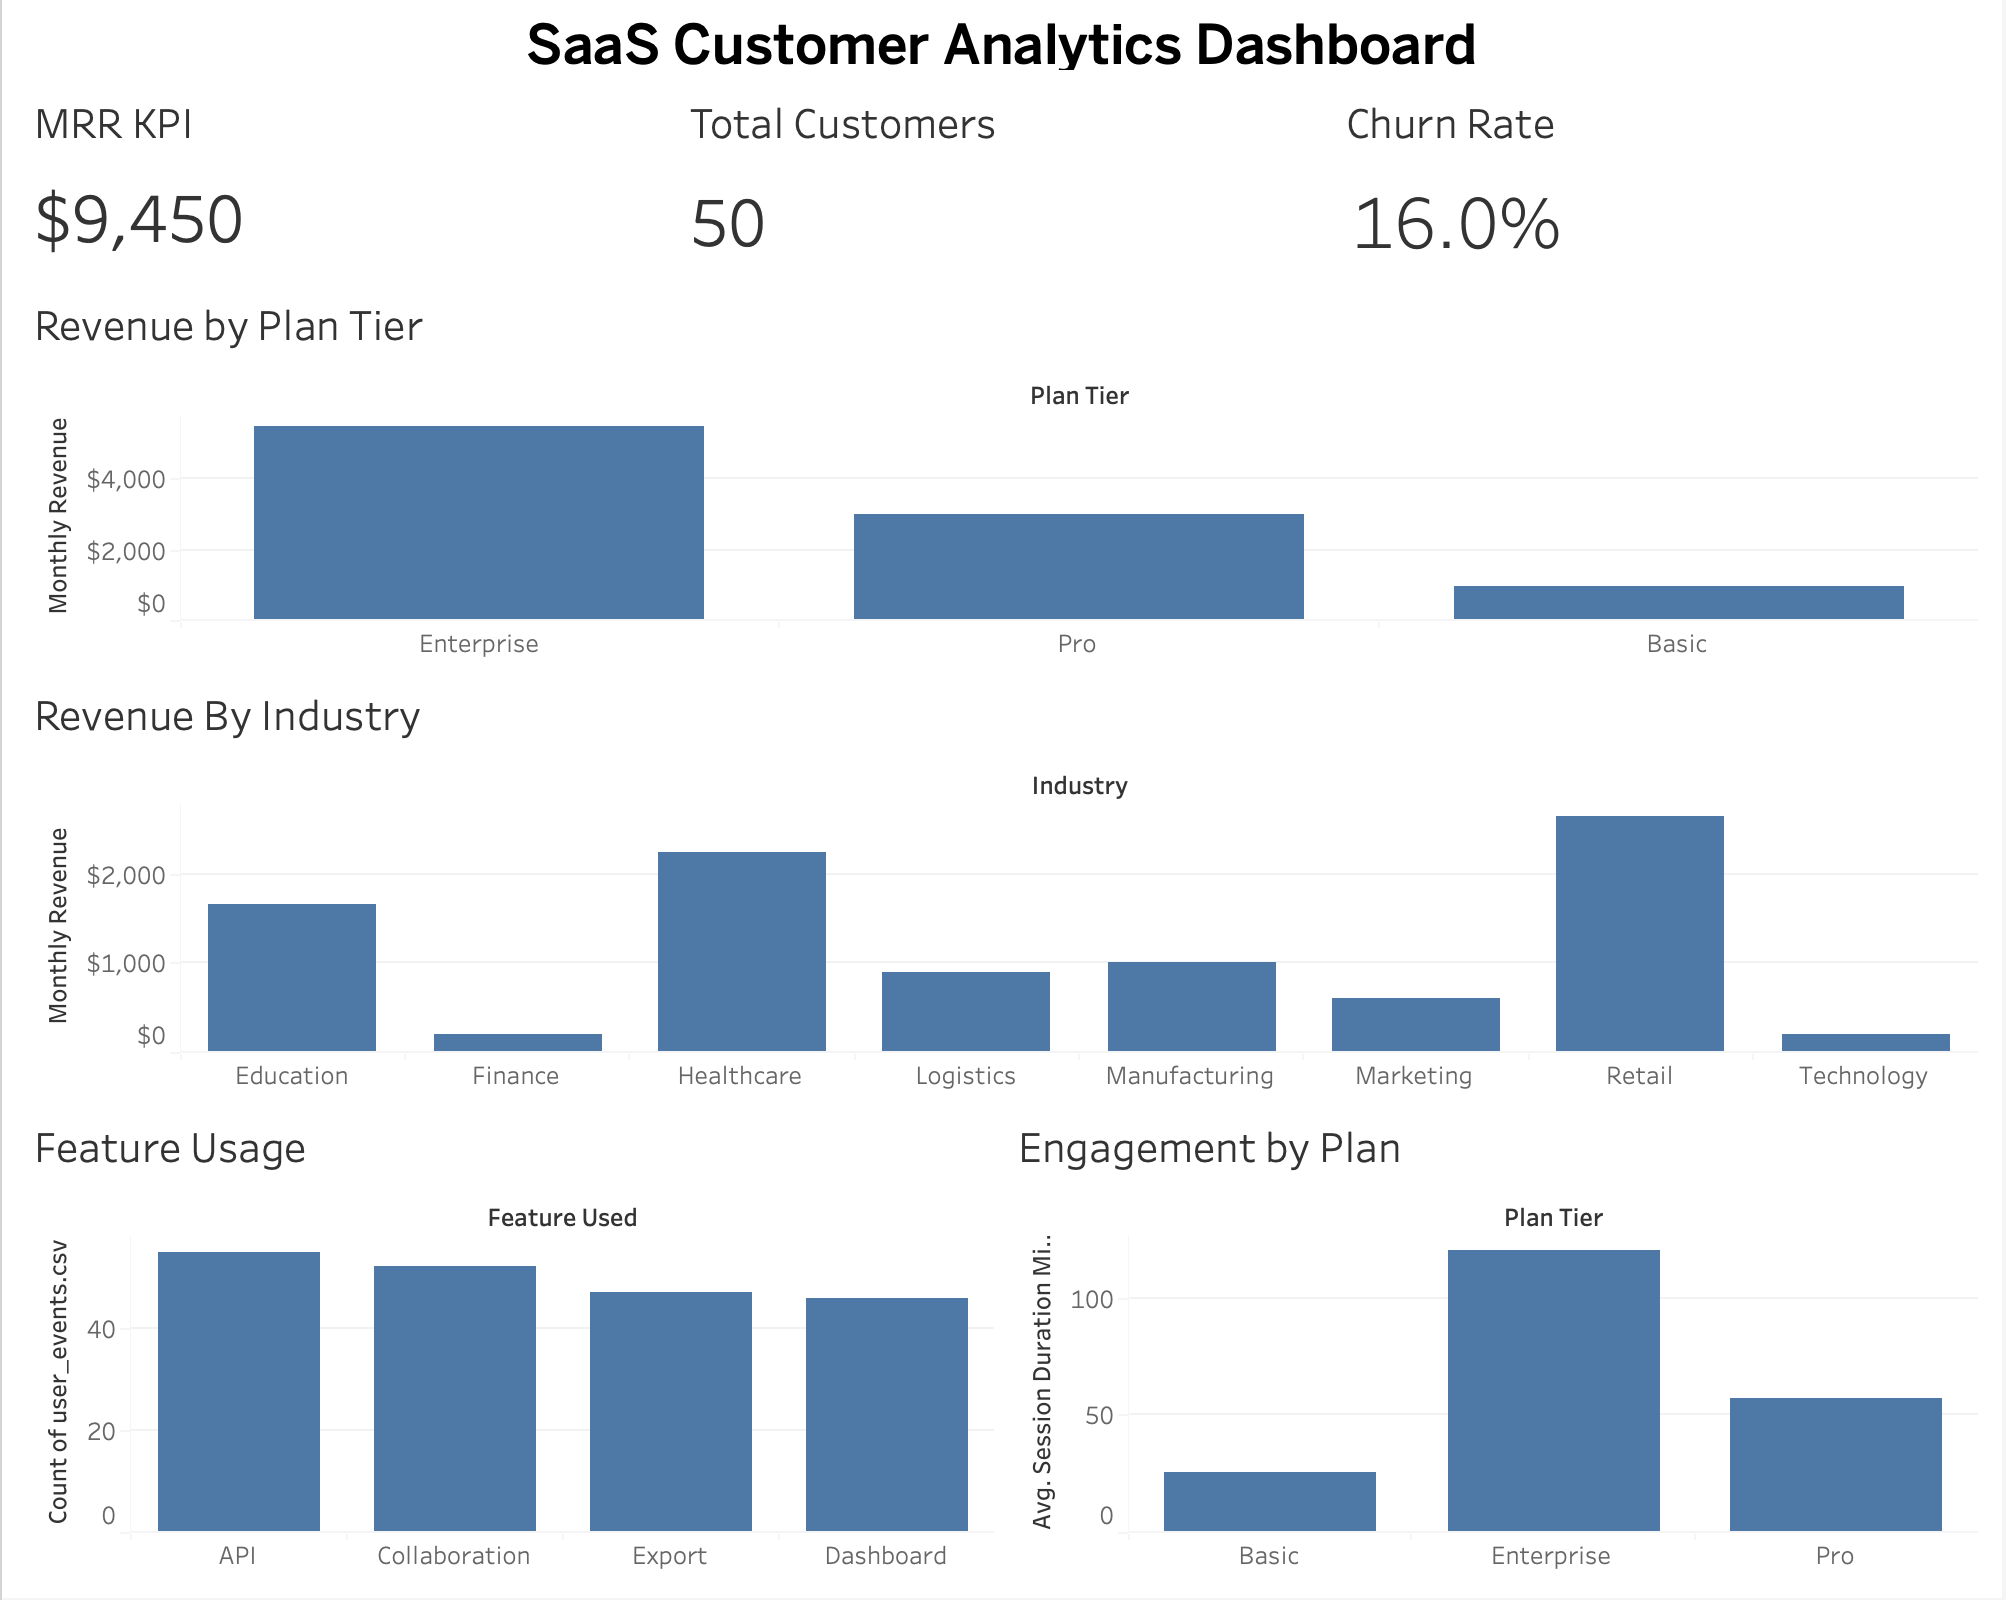

The page's visual inventory and layout, read from the dashboard file:
{"tool":"tableau","page":{"name":"Dashboard 1","canvas":[1000,800],"ordinal":0},"visuals":[{"type":"text","box":[8,8,984,59]},{"type":"worksheet","title":"MRR KPI","mark":"Text","box":[8,67,242,101]},{"type":"worksheet","title":"Total Customers","mark":"Text","box":[250,67,333,101]},{"type":"worksheet","title":"Churn Rate","mark":"Text","box":[583,67,409,101]},{"type":"worksheet","title":"Revenue by Plan Tier","mark":"Automatic","rows":["monthly_revenue"],"cols":["plan_tier"],"box":[8,168,984,206]},{"type":"worksheet","title":"Revenue By Industry","mark":"Automatic","rows":["monthly_revenue"],"cols":["industry"],"box":[8,374,984,209.5]},{"type":"worksheet","title":"Feature Usage","mark":"Automatic","rows":["user_events.csv_8F05BFA9FB9E4E68AA858A2FF113C53F"],"cols":["feature_used"],"box":[8,583.5,492,208.5]},{"type":"worksheet","title":"Engagement by Plan","mark":"Automatic","rows":["session_duration_minutes"],"cols":["plan_tier"],"box":[500,583.5,492,208.5]}]}

Visuals, with their boxes in screenshot pixels (x1, y1, x2, y2), scaled from the page's 1000x800 canvas onto the 2006x1600 screenshot:
text: 16,16,1990,134
"MRR KPI" worksheet (Text marks): 16,134,501,336
"Total Customers" worksheet (Text marks): 501,134,1169,336
"Churn Rate" worksheet (Text marks): 1169,134,1990,336
"Revenue by Plan Tier" worksheet: 16,336,1990,748
"Revenue By Industry" worksheet: 16,748,1990,1167
"Feature Usage" worksheet: 16,1167,1003,1584
"Engagement by Plan" worksheet: 1003,1167,1990,1584
